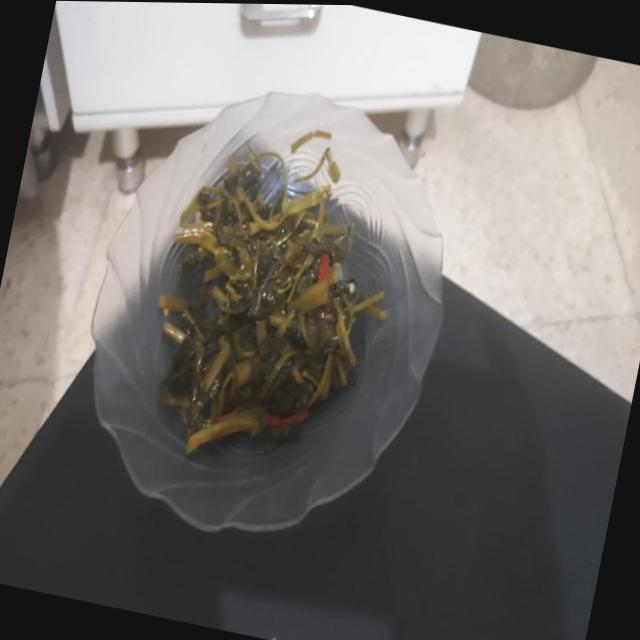tumis_kangkung: (159, 152, 386, 454)
